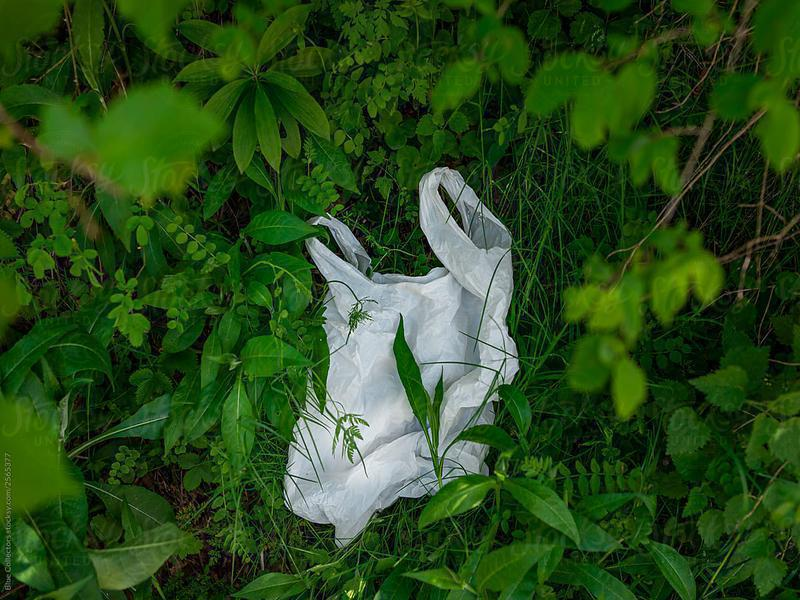leaf: (84, 523, 197, 592), (503, 464, 584, 547), (407, 464, 500, 536), (217, 379, 268, 483), (675, 359, 762, 417), (657, 404, 723, 465), (239, 334, 320, 382)
plastic: (262, 164, 530, 549)
